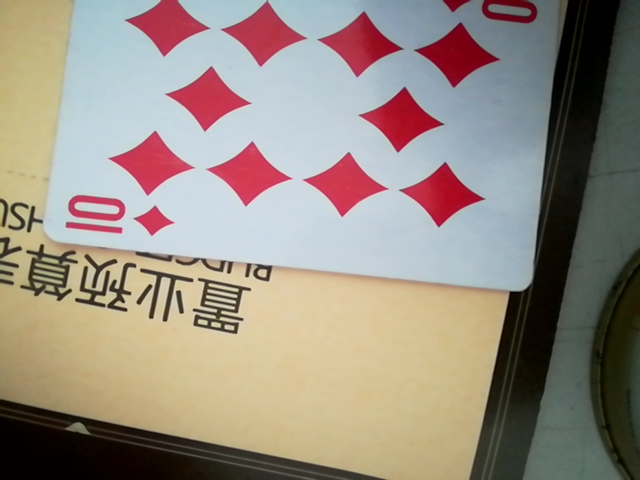fk 10: (37, 0, 561, 287)
